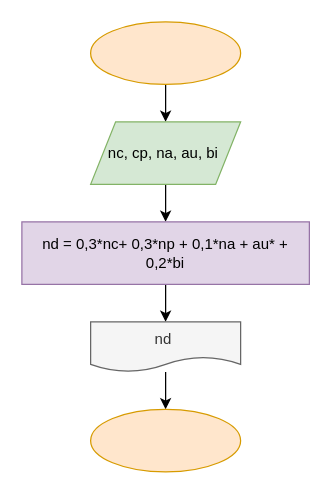
The diagram is 331 pixels wide and 494 high, and some of its shapes have lost their labels. The shapes that lost their labels are listed below. From the top down, each one's centre as x and y in pixels, then its label:
At (165,52): "INICIO".
At (165,440): "FIN".
